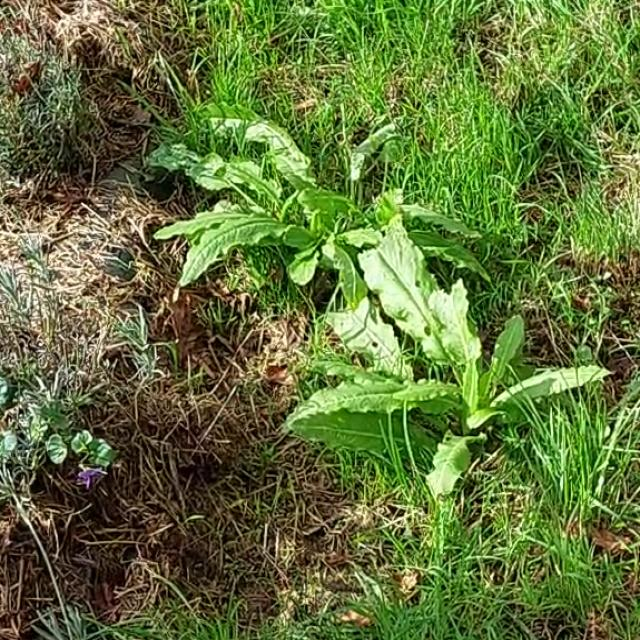organic waste: (309, 226, 599, 520), (160, 83, 453, 339)
